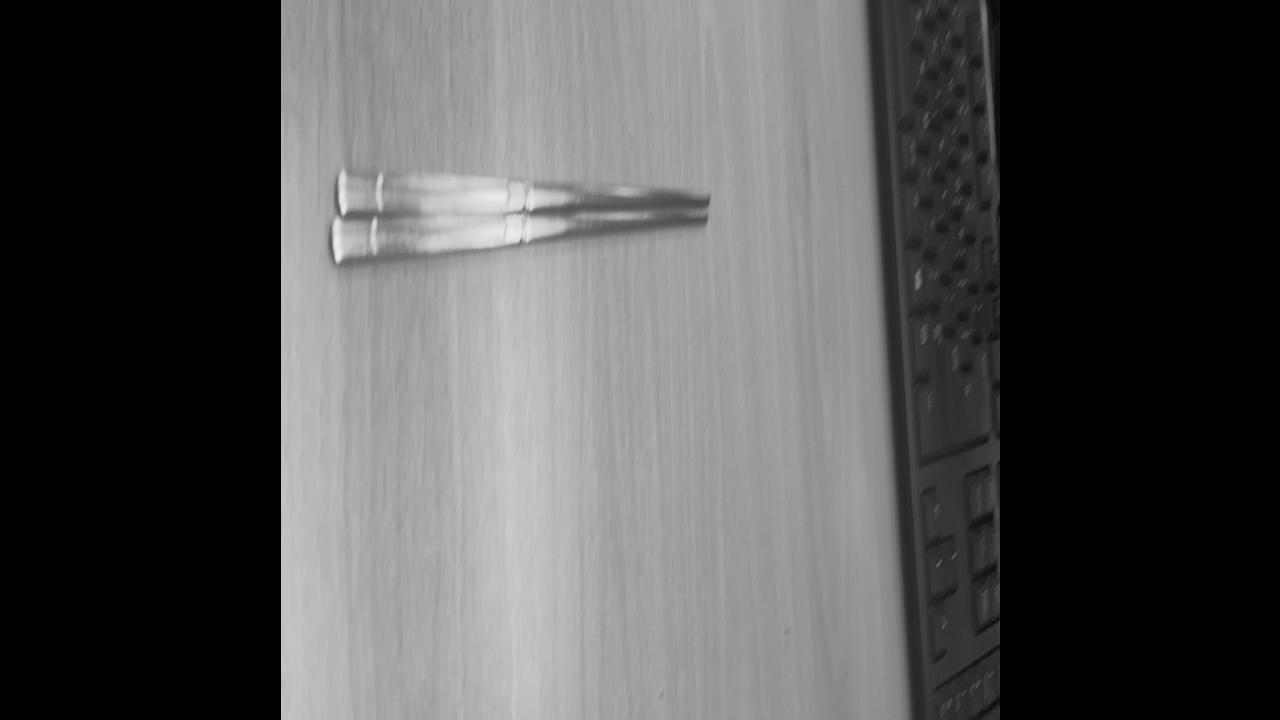chopstick: (336, 178, 709, 257)
